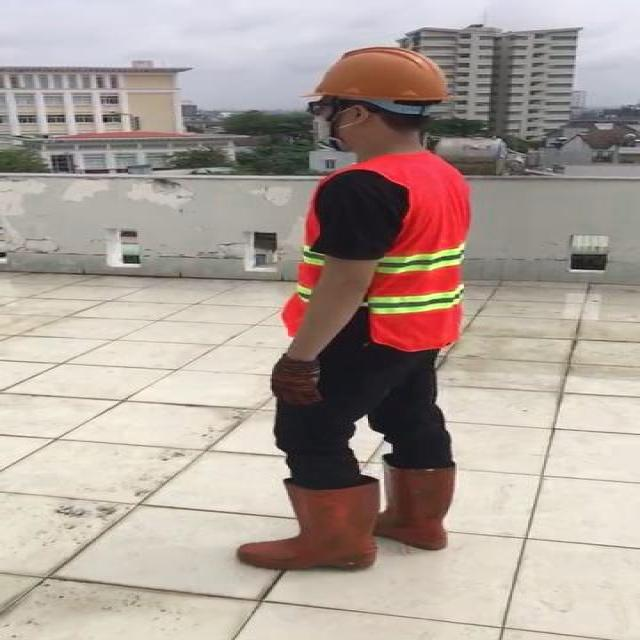boots: (237, 478, 381, 569), (375, 462, 459, 553)
hand_glove: (268, 358, 322, 406)
head_helmet: (306, 42, 453, 106)
person: (204, 32, 479, 577)
vest: (283, 153, 471, 348)
